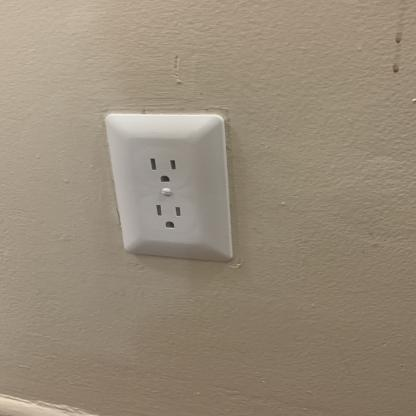OUTLET: (105, 112, 240, 266)
